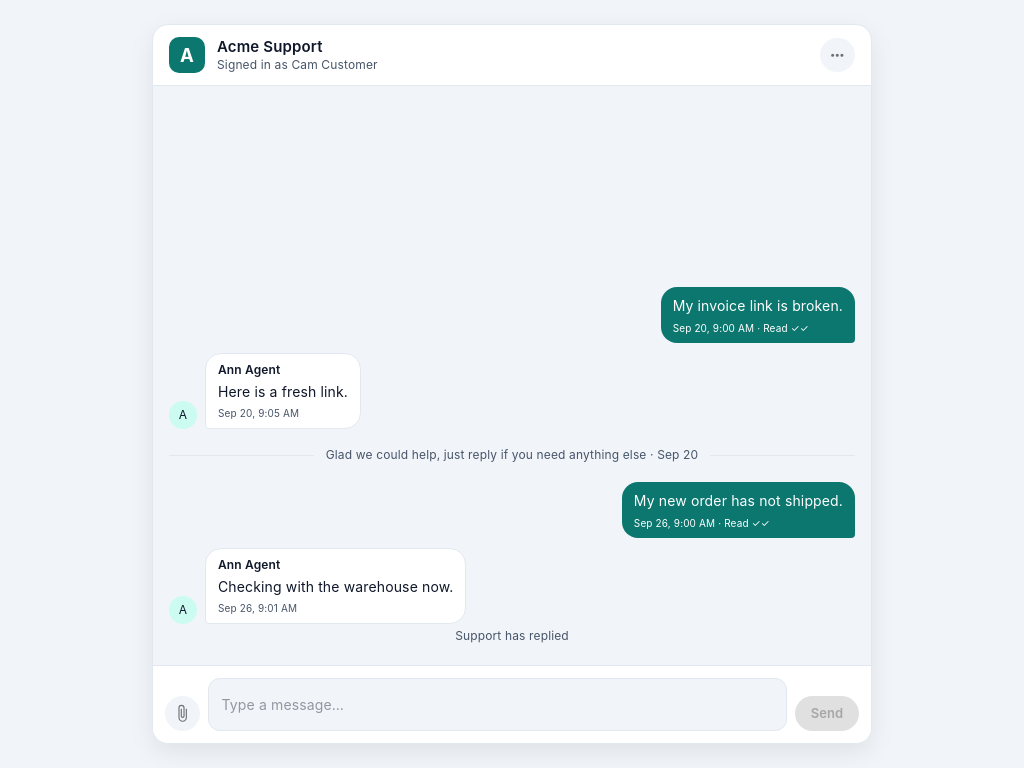
Test case: ChatPage › sends optimistically with a clientMessageId and signals typing
Check: the text "Checking with the warehouse now." is shown, box [218,576,454,597]
Type "Where is my parcel?" into the text box labelled "message" at (497, 704), box [222,694,773,714]
Then press Enter
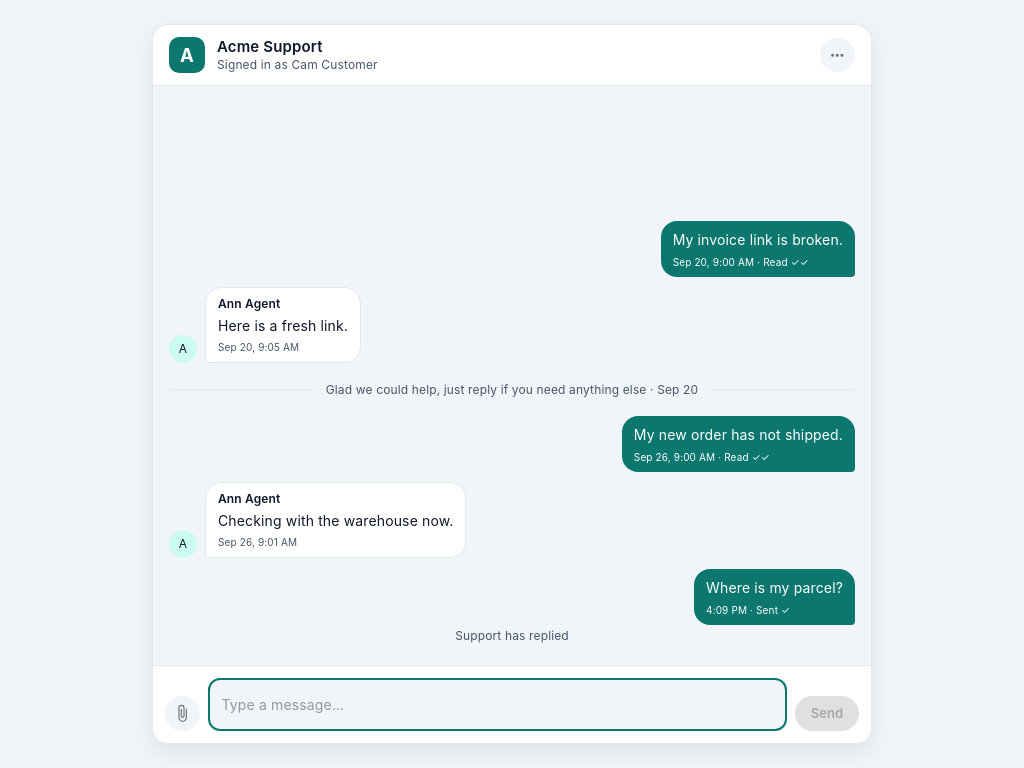
Check: the list item "Where is my parcel?" shows "Sent", box [756,603,778,615]
